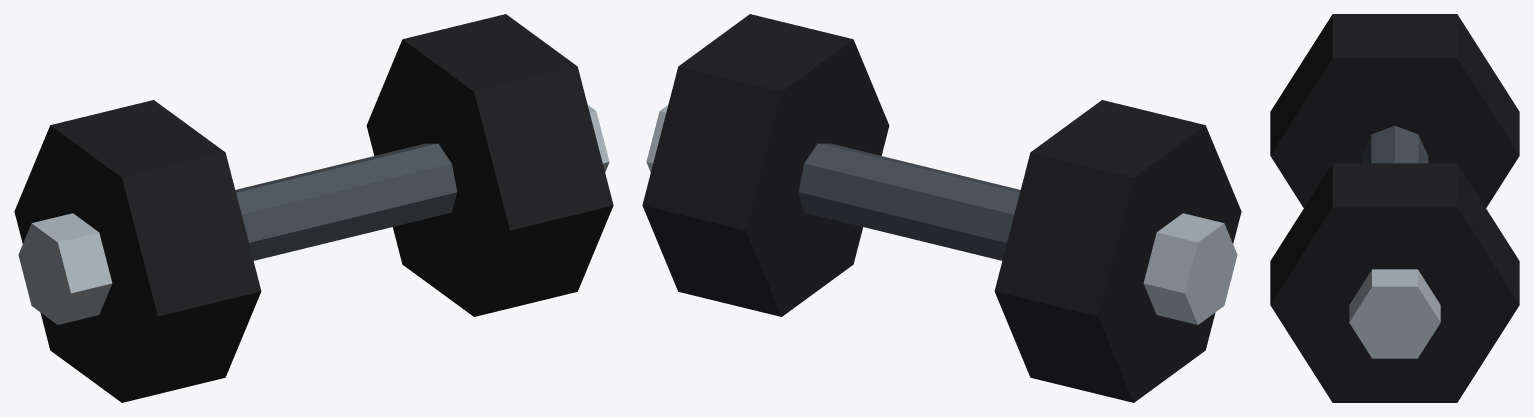
Rendered from GS_Dumbbell_01.glb.
The picture shows the model from 3 angles, left to right: view 1: azimuth 30°, elevation 25°; view 2: azimuth 150°, elevation 25°; view 3: azimuth 270°, elevation 25°; orthographic projection. The views are drawn at different scales.
Visible parts, largest first — view 1: GS_Dumbbell_01; view 2: GS_Dumbbell_01; view 3: GS_Dumbbell_01.
Part boxes in pixels (x1,y1,x2,y2): GS_Dumbbell_01: (14, 14, 613, 402); GS_Dumbbell_01: (642, 14, 1241, 402); GS_Dumbbell_01: (1270, 14, 1519, 402).
Bounding box in the file's own units: 0.26 × 0.1039 × 0.12.
1 material, 1 textured.
